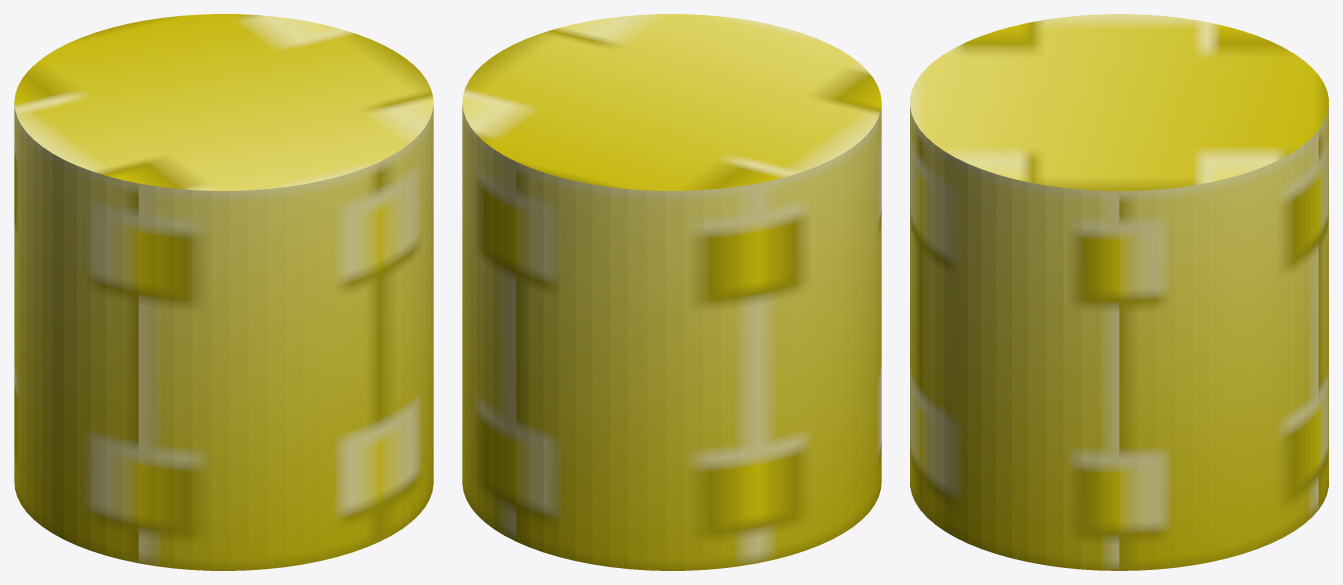
The model's file is keyd.obj.
3 renders of one model, left to right at view 1: azimuth 30°, elevation 25°; view 2: azimuth 150°, elevation 25°; view 3: azimuth 270°, elevation 25°, orthographic.
Visible parts, largest first — view 1: ColobotMesh_1_ColobotMesh_; view 2: ColobotMesh_1_ColobotMesh_; view 3: ColobotMesh_1_ColobotMesh_.
Boxes of the visible parts, left/top/right/bottom form: ColobotMesh_1_ColobotMesh_: left=14, top=14, right=433, bottom=570; ColobotMesh_1_ColobotMesh_: left=462, top=14, right=881, bottom=570; ColobotMesh_1_ColobotMesh_: left=910, top=14, right=1328, bottom=570.
Bounding box in the file's own units: 2 × 2 × 2.
